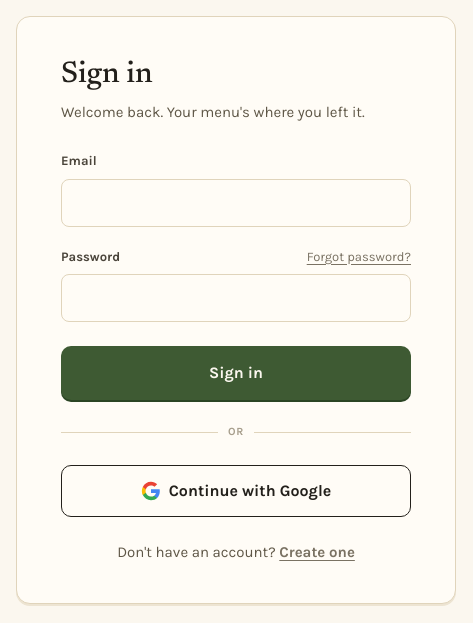
Test case: LoginPage › sends an unconfirmed account to the code step with a fresh code
Step 1. Type "jamie@example.com" into the field labelled "Email" → (236, 202), box x1=61 y1=178 x2=411 y2=226
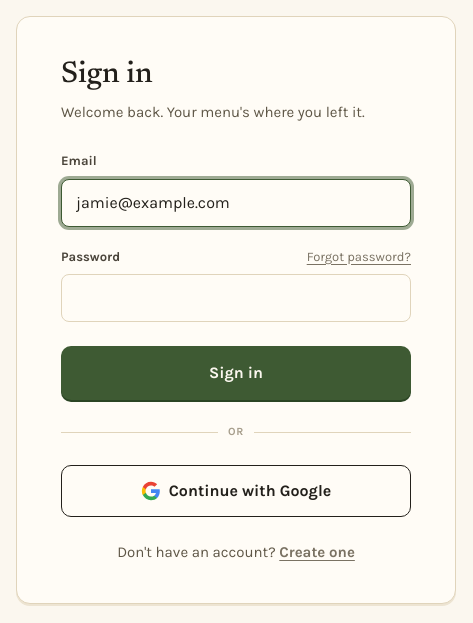
Step 2. Type "correcthorse" into the password field labelled "Password" → (236, 298), box x1=61 y1=274 x2=411 y2=322
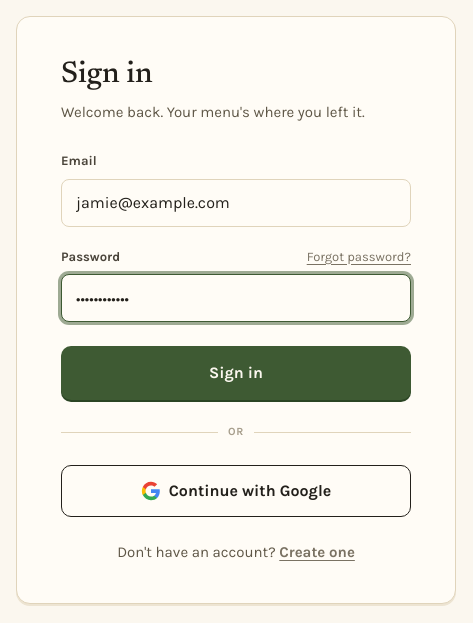
Step 3. Click the button "Sign in" → (236, 373), box x1=61 y1=346 x2=411 y2=400
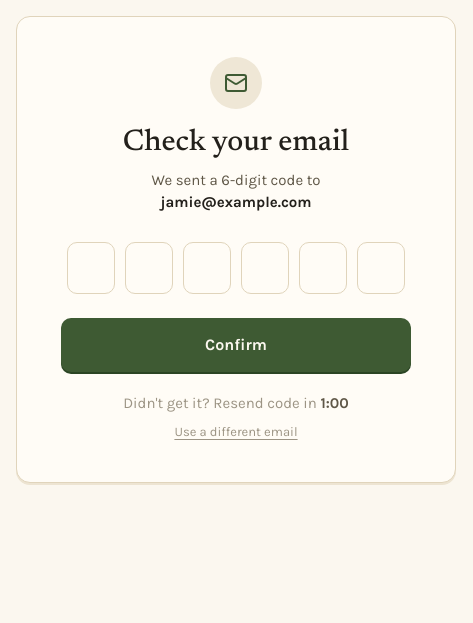
Expected: the heading "Check your email" is shown, x1=123 y1=125 x2=349 y2=162
Expected: the text "Didn't get it? Resend code in 1:00" is shown, x1=123 y1=392 x2=349 y2=414
